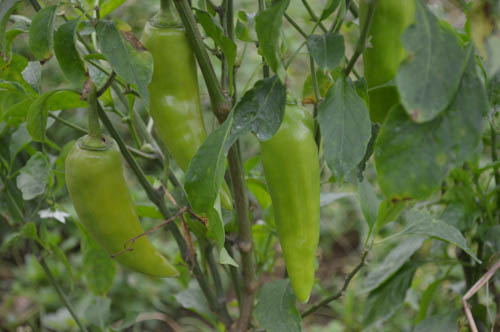ChiliPepper: (147, 24, 238, 208), (74, 142, 182, 282), (267, 106, 322, 306), (361, 5, 415, 121)
